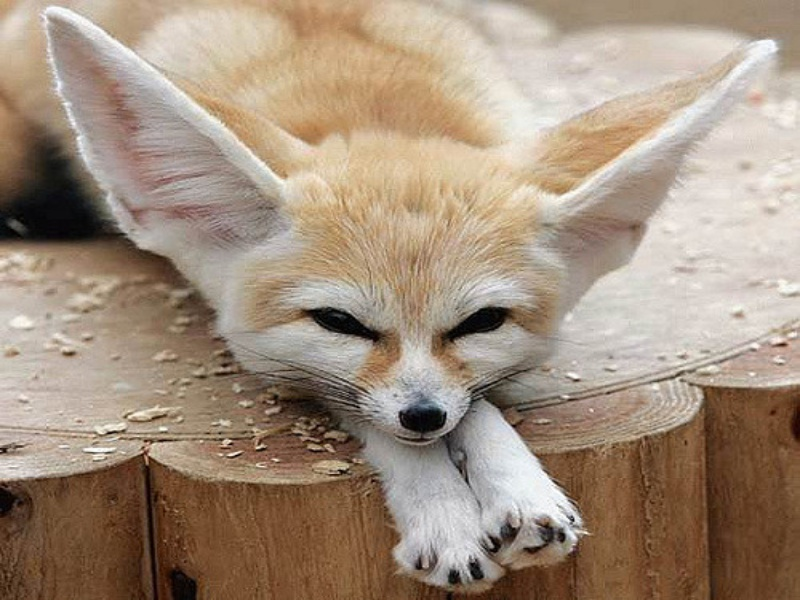fox: (25, 8, 764, 567)
